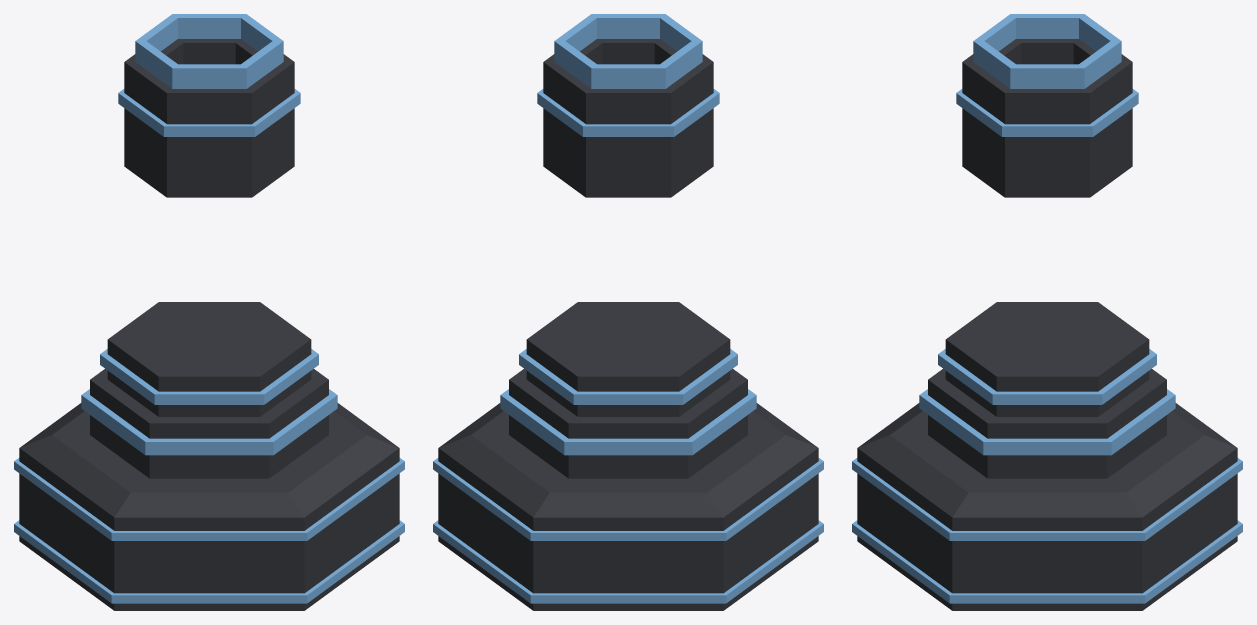
File: BombTowerLvl2.glb
3 views of the same model, side by side, from view 1: azimuth 30°, elevation 25°; view 2: azimuth 150°, elevation 25°; view 3: azimuth 270°, elevation 25° (orthographic).
Parts seen in each view (by area): view 1: Cylinder.002, Cylinder.001; view 2: Cylinder.002, Cylinder.001; view 3: Cylinder.002, Cylinder.001.
Boxes of the visible parts, x1,y1,x2,y2 form: Cylinder.002: [14, 302, 404, 610]; Cylinder.001: [118, 14, 300, 197]; Cylinder.002: [433, 302, 823, 610]; Cylinder.001: [537, 14, 719, 197]; Cylinder.002: [852, 302, 1242, 610]; Cylinder.001: [956, 14, 1138, 197].
Bounding box in the file's own units: 2.87 × 4.68 × 3.31.
